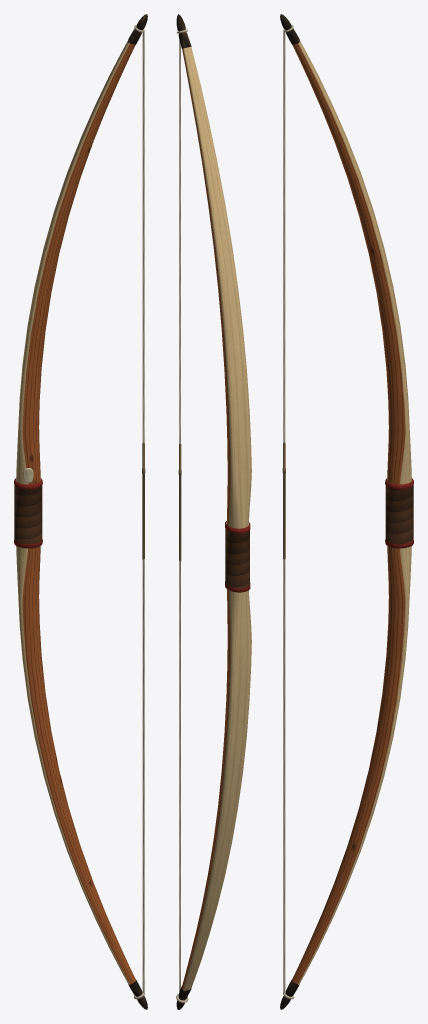
The model's file is bow.glb.
3 renders of one model, left to right at view 1: azimuth 90°, elevation 25°; view 2: azimuth 210°, elevation 25°; view 3: azimuth 270°, elevation 25°, orthographic.
Visible parts, largest first — view 1: Bow, String; view 2: Bow, String; view 3: Bow, String.
Part boxes in pixels (left/top/right/bottom): Bow: left=14, top=14, right=147, bottom=1009; String: left=142, top=31, right=145, bottom=992; Bow: left=176, top=14, right=251, bottom=1009; String: left=178, top=40, right=181, bottom=991; Bow: left=280, top=14, right=413, bottom=1009; String: left=282, top=31, right=285, bottom=992.
Size of the model in its own units: 0.0346 by 1.53 by 0.1859.
1 material, 1 textured.
